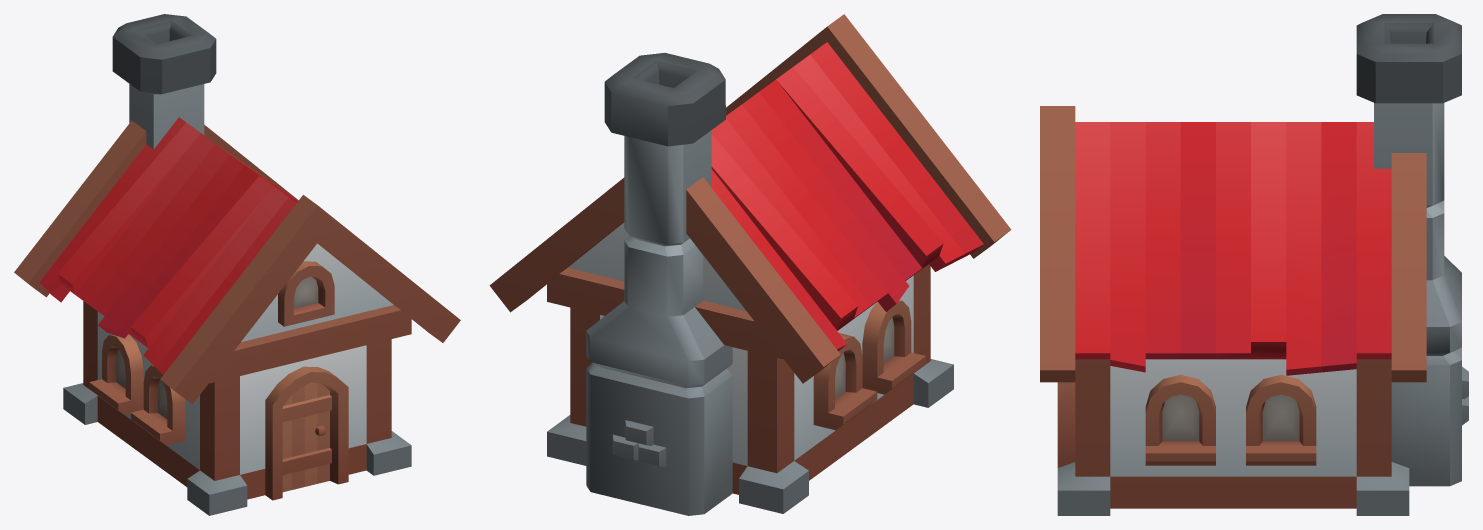
The model's file is house.glb.
3 views of the same model, side by side, from view 1: azimuth 30°, elevation 25°; view 2: azimuth 150°, elevation 25°; view 3: azimuth 270°, elevation 25° (orthographic). The views are drawn at different scales.
Visible parts, largest first — view 1: building_home_A_red; view 2: building_home_A_red; view 3: building_home_A_red.
Part boxes in pixels (left/top/right/bottom): building_home_A_red: left=14, top=14, right=460, bottom=515; building_home_A_red: left=489, top=14, right=1011, bottom=515; building_home_A_red: left=1040, top=14, right=1468, bottom=515.
Size of the model in its own units: 0.792 by 0.93 by 0.8537.
1 material, 1 textured.
